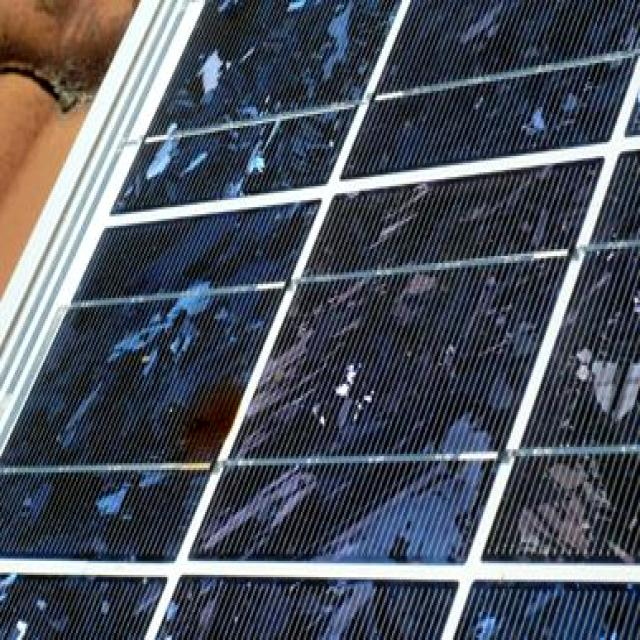shadow: (166, 368, 255, 486)
